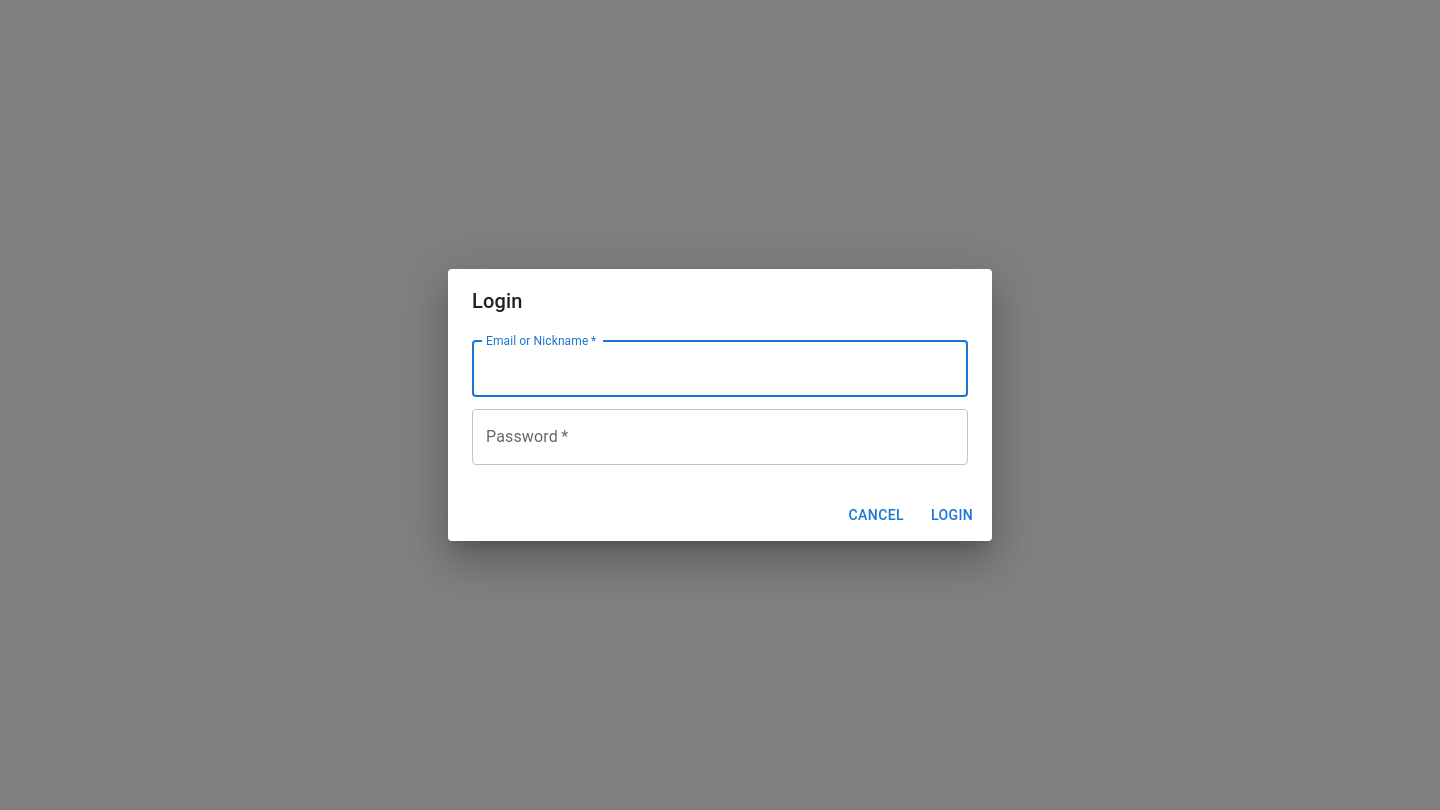
LoginModal › displays error message on login failure
Type "test@example.com" into the field labelled "Email or Nickname *".
click(720, 369); type("test@example.com")  # box [472,341,968,397]
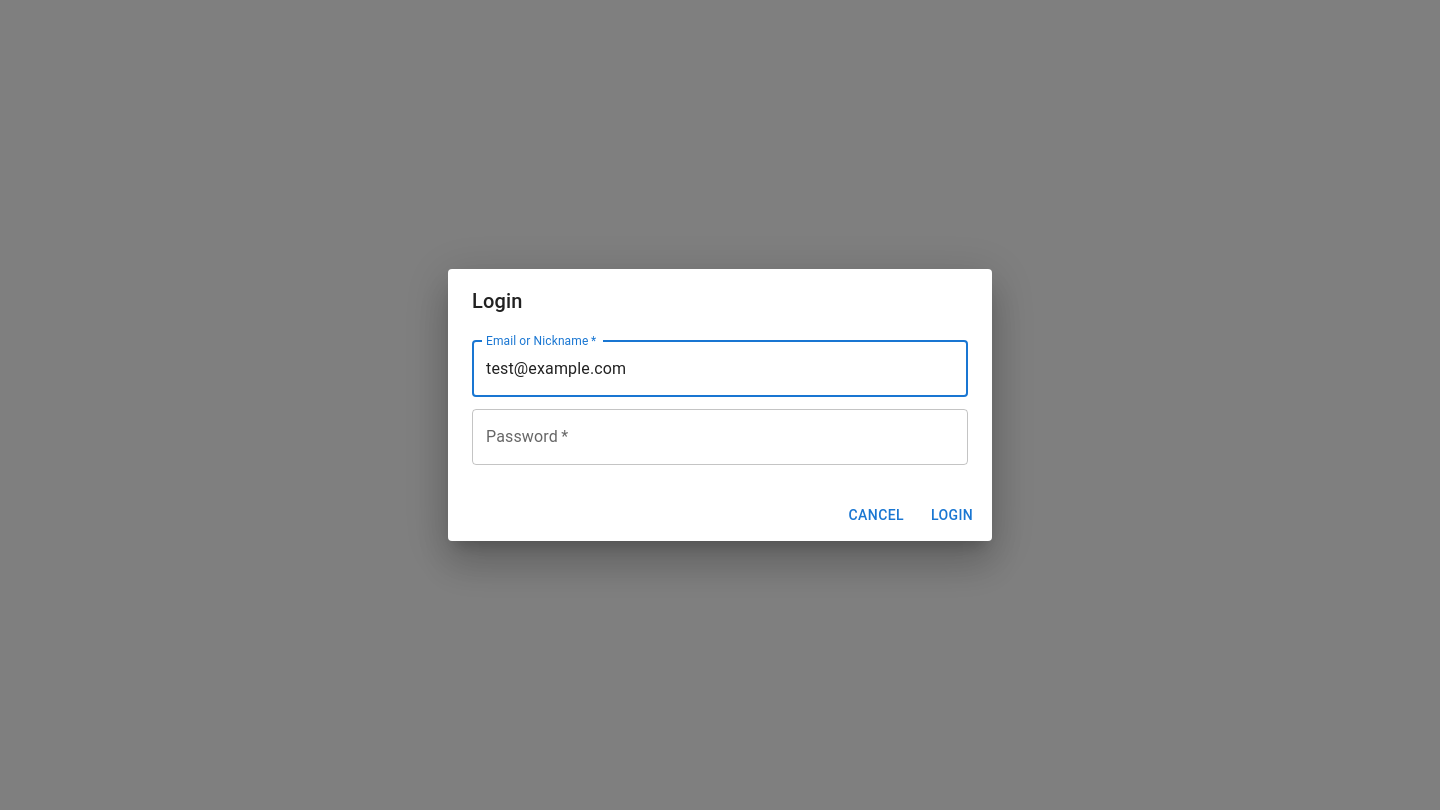
Type "password123" into the password field labelled "Password *".
click(720, 437); type("password123")  # box [472,409,968,465]
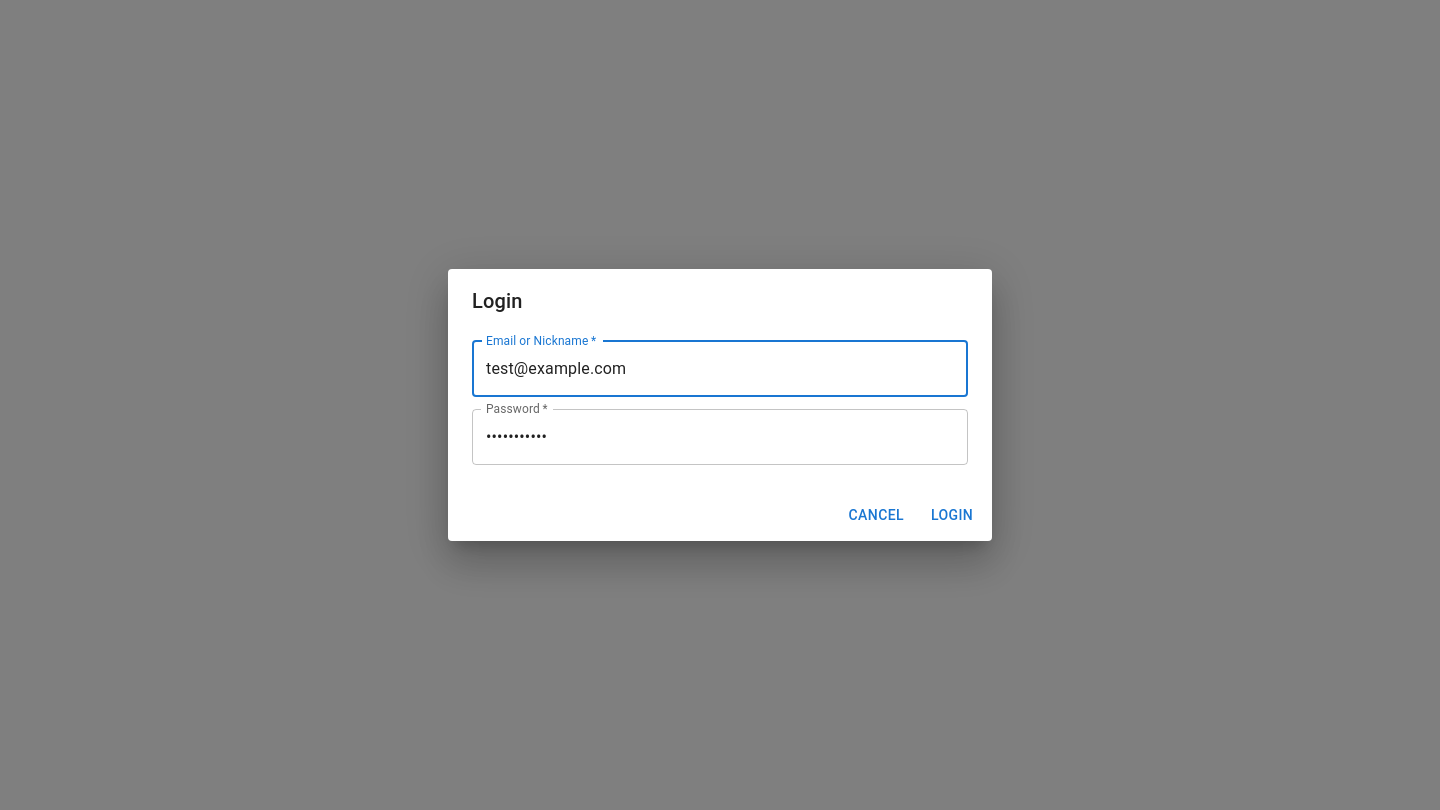
Click the button "Login".
click(952, 515)  # box [920,497,984,533]
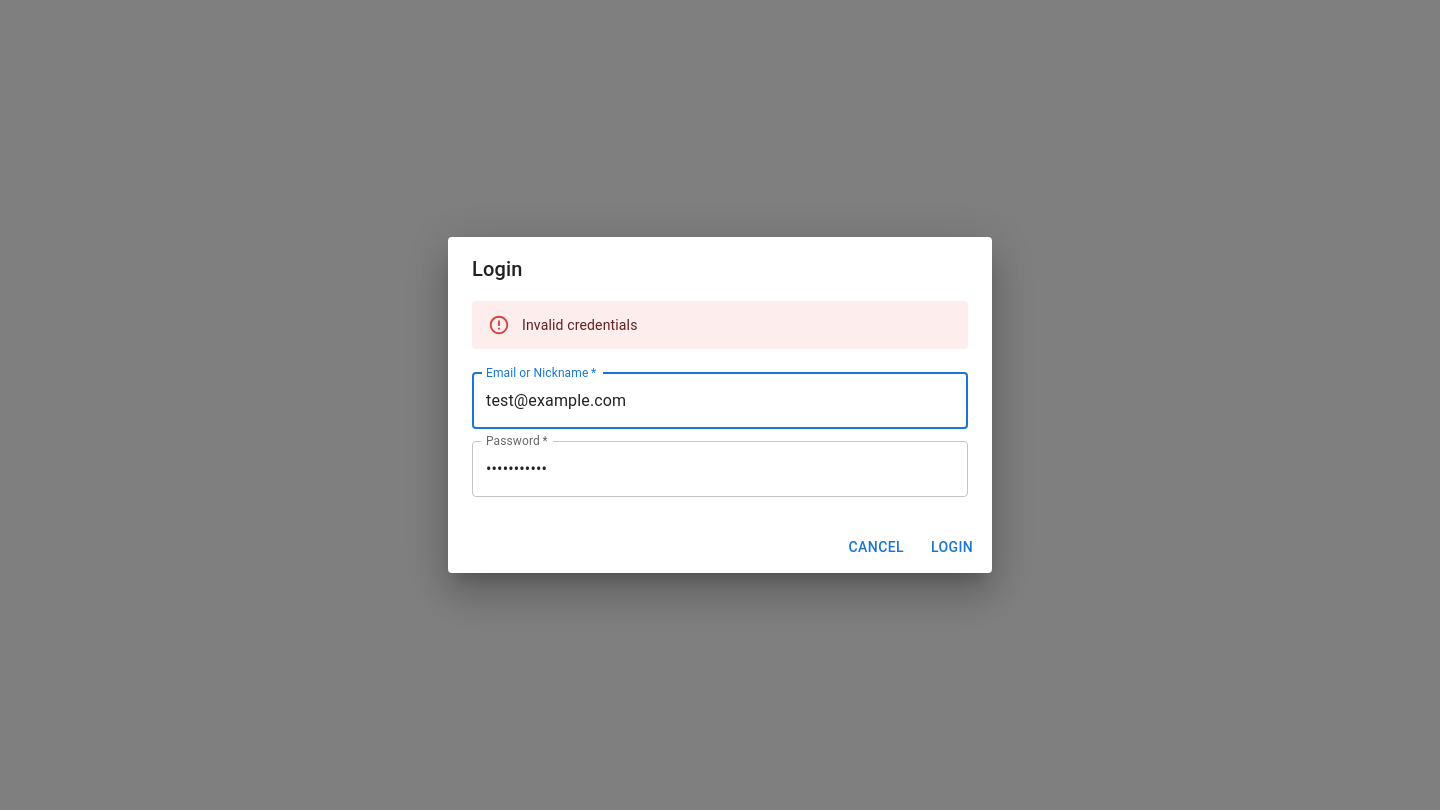
expect the text "Invalid credentials" is shown: met, box [522,317,638,333]
